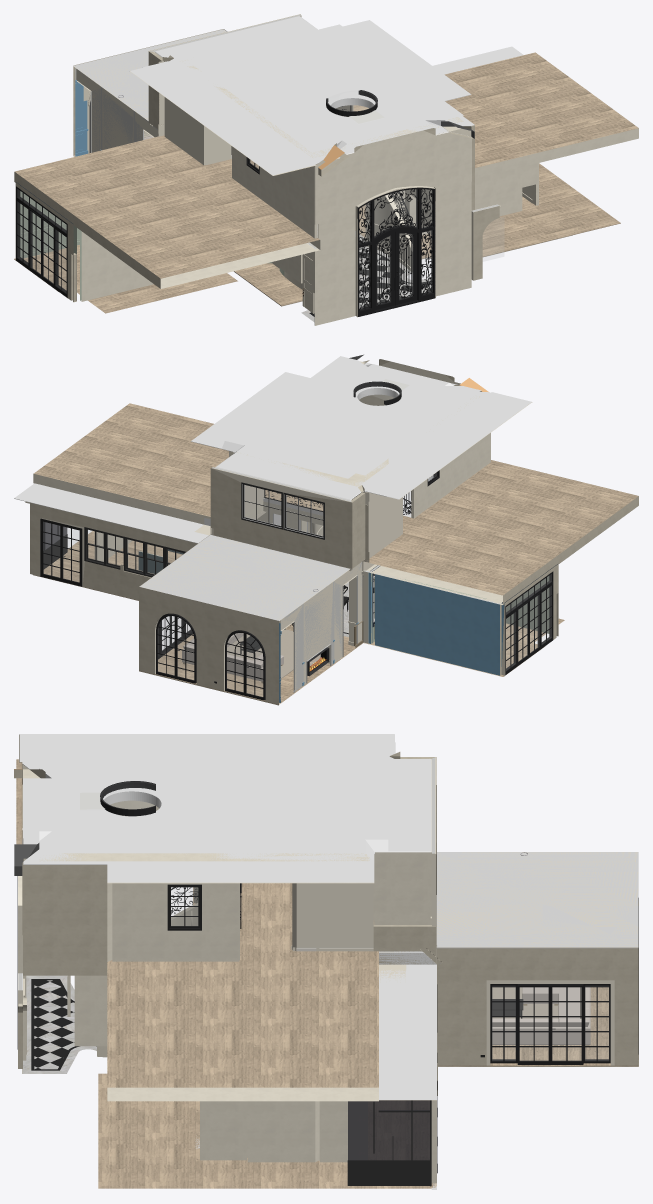
Rendered from family-room-9692a80a90b5.glb.
3 views of the same model, one above another, from view 1: azimuth 30°, elevation 25°; view 2: azimuth 150°, elevation 25°; view 3: azimuth 270°, elevation 25° (orthographic). The views are drawn at different scales.
Parts seen in each view (by area): view 1: family-room-look-2575515a05775d9e, family-room-look-e8793759323e04f0, family-room-look-9d91b47435c6fb33, family-room-look-34525a54e63b733b, family-room-look-3b0077416469e01b, family-room-look-d5a4a1b5d3594c04, family-room-look-5f56640b372ec5ce, family-room-look-746250f96522f643, family-room-4a969f5cc1ae3dfe, family-room-look-bce662e26d5a5947, family-room-look-d999b7e09afcf2f4, family-room-9d80b152e3f2ea10 (+30 smaller); view 2: family-room-look-2575515a05775d9e, family-room-look-e8793759323e04f0, family-room-look-9d91b47435c6fb33, family-room-4a969f5cc1ae3dfe, family-room-look-b19b106fc304963c, family-room-look-245f595ae2832e16, family-room-969b861f9850351e, family-room-look-bfb9fa537cd11d1d, family-room-look-9a0e9ee9b2a451d7, family-room-9d80b152e3f2ea10, family-room-look-5f56640b372ec5ce, family-room-55ff1dfd7b659ec1 (+26 smaller); view 3: family-room-look-2575515a05775d9e, family-room-look-e8793759323e04f0, family-room-look-9d91b47435c6fb33, family-room-4a969f5cc1ae3dfe, family-room-look-3b0077416469e01b, family-room-e706aa16b4547c37, family-room-look-62353aa10fc57f23, family-room-50d54560d247b537, family-room-look-c51ecd664a3b22a3, family-room-look-9a0e9ee9b2a451d7, family-room-look-5f56640b372ec5ce, family-room-look-69af8f587252f9fa (+28 smaller).
Part boxes in pixels (box(x1,y1,x2,y2)): family-room-look-2575515a05775d9e: box(14, 52, 638, 288); family-room-look-e8793759323e04f0: box(180, 23, 463, 157); family-room-look-9d91b47435c6fb33: box(130, 16, 474, 175); family-room-look-34525a54e63b733b: box(314, 126, 471, 244); family-room-look-3b0077416469e01b: box(14, 163, 620, 306); family-room-look-d5a4a1b5d3594c04: box(314, 208, 471, 325); family-room-look-5f56640b372ec5ce: box(254, 81, 404, 139); family-room-look-746250f96522f643: box(232, 146, 317, 238); family-room-4a969f5cc1ae3dfe: box(73, 29, 226, 120); family-room-look-bce662e26d5a5947: box(357, 187, 435, 316); family-room-look-d999b7e09afcf2f4: box(80, 230, 153, 301); family-room-9d80b152e3f2ea10: box(76, 69, 158, 152); family-room-look-2575515a05775d9e: box(33, 403, 638, 604); family-room-look-e8793759323e04f0: box(222, 356, 481, 486); family-room-look-9d91b47435c6fb33: box(191, 362, 532, 500); family-room-4a969f5cc1ae3dfe: box(139, 534, 349, 621); family-room-look-b19b106fc304963c: box(375, 573, 501, 675); family-room-look-245f595ae2832e16: box(210, 467, 352, 568); family-room-969b861f9850351e: box(139, 587, 280, 704); family-room-look-bfb9fa537cd11d1d: box(30, 502, 197, 600); family-room-look-9a0e9ee9b2a451d7: box(14, 483, 208, 543); family-room-9d80b152e3f2ea10: box(280, 562, 362, 690); family-room-look-5f56640b372ec5ce: box(324, 377, 464, 430); family-room-55ff1dfd7b659ec1: box(281, 562, 362, 692); family-room-look-2575515a05775d9e: box(16, 759, 378, 1101); family-room-look-e8793759323e04f0: box(39, 756, 388, 861); family-room-look-9d91b47435c6fb33: box(19, 734, 431, 883); family-room-4a969f5cc1ae3dfe: box(436, 852, 638, 948); family-room-look-3b0077416469e01b: box(98, 920, 436, 1188); family-room-e706aa16b4547c37: box(437, 948, 633, 1065); family-room-look-62353aa10fc57f23: box(23, 865, 112, 975); family-room-50d54560d247b537: box(436, 852, 638, 948); family-room-look-c51ecd664a3b22a3: box(112, 883, 239, 961); family-room-look-9a0e9ee9b2a451d7: box(379, 964, 436, 1100); family-room-look-5f56640b372ec5ce: box(83, 756, 196, 825); family-room-look-69af8f587252f9fa: box(292, 883, 373, 947).
Bounding box in the file's own units: 21.02 × 7.02 × 16.88.
Materials: 72 (13 with a texture image).
